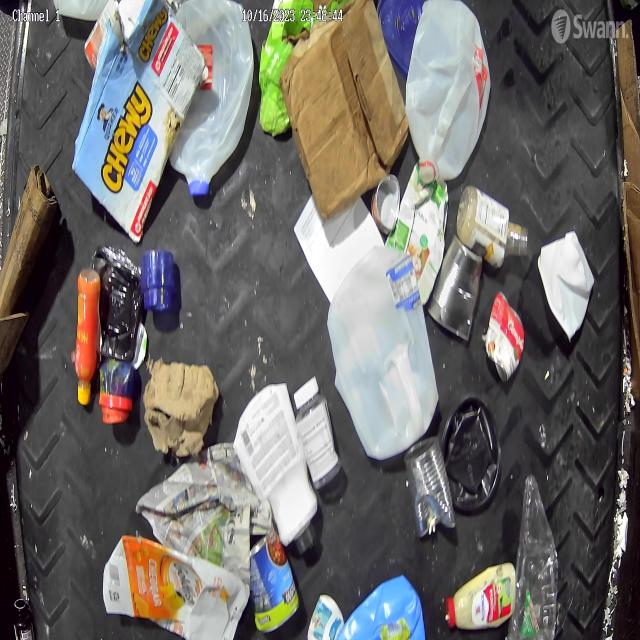can: (430, 238, 484, 342), (251, 527, 298, 628), (409, 437, 455, 534), (486, 290, 526, 383), (371, 174, 402, 233)
milk_jug: (328, 246, 437, 460), (172, 0, 255, 199), (405, 0, 492, 184), (48, 1, 122, 22)
non_white_jug: (102, 533, 250, 640), (338, 574, 427, 640), (443, 563, 517, 635)
plastic_bottle: (507, 472, 559, 640)
